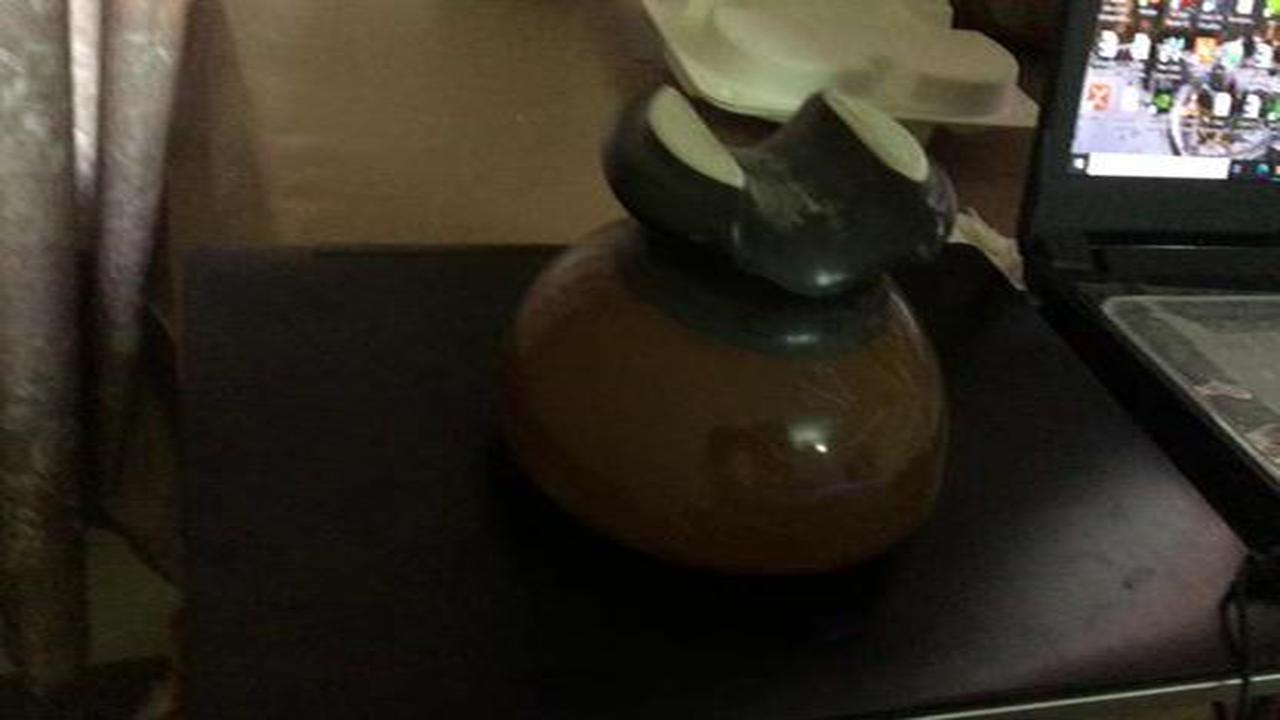insulator_pin: (477, 61, 1007, 594)
